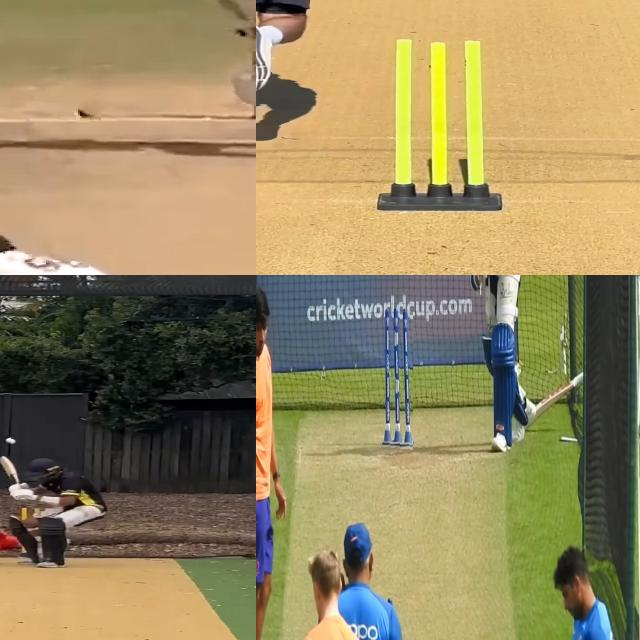Cricket ball: (74, 105, 101, 121), (5, 437, 16, 444)
Stumps: (380, 38, 504, 211), (384, 309, 413, 450)
